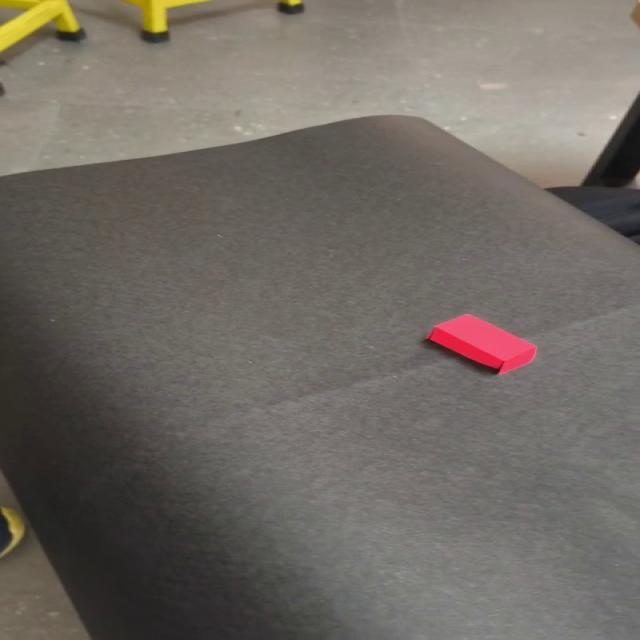red block: (426, 312, 538, 374)
